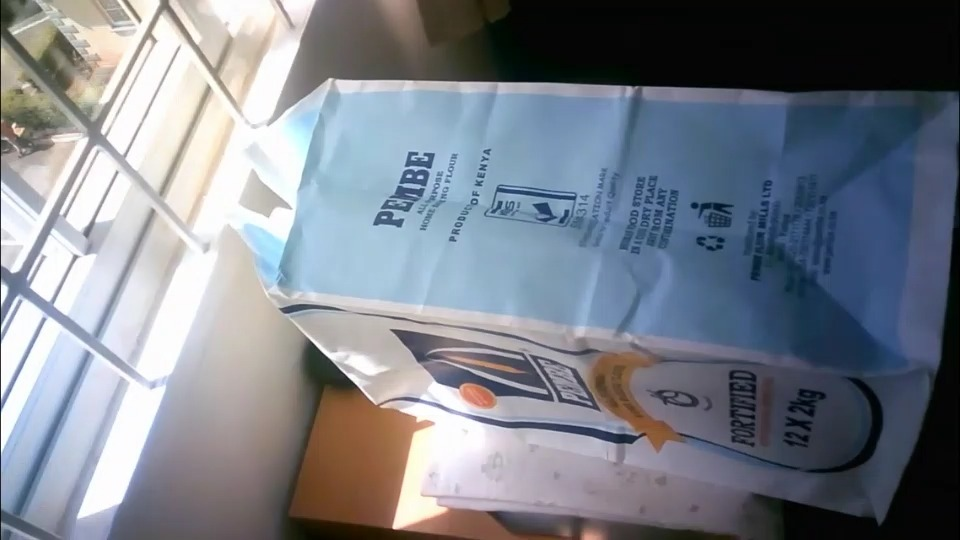wheat_flour_blue_label: (244, 82, 956, 526)
